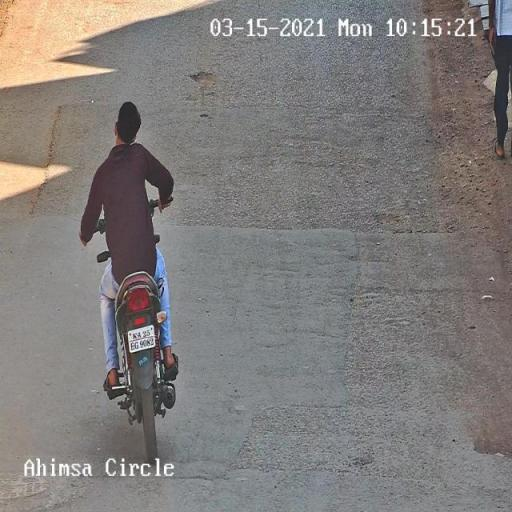numberplate: (126, 327, 160, 354)
using mobile: (129, 134, 140, 150)
